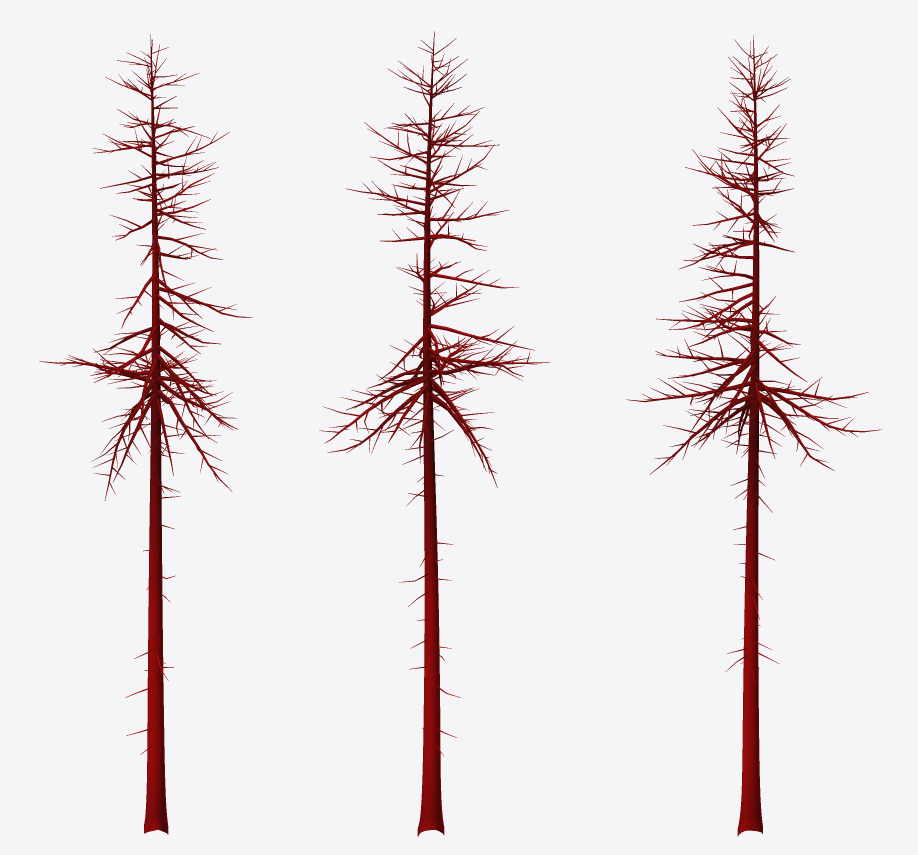
File: pine_a_lod0.glb
3 renders of one model, left to right at view 1: azimuth 30°, elevation 25°; view 2: azimuth 150°, elevation 25°; view 3: azimuth 270°, elevation 25°, orthographic.
Parts seen in each view (by area): view 1: pine_a_LOD0; view 2: pine_a_LOD0; view 3: pine_a_LOD0.
Boxes of the visible parts, box(x1,y1,x2,y2) form: pine_a_LOD0: box(39, 34, 252, 834); pine_a_LOD0: box(319, 31, 550, 836); pine_a_LOD0: box(626, 35, 881, 836).
Bounding box in the file's own units: 7.06 × 24.67 × 8.28.
